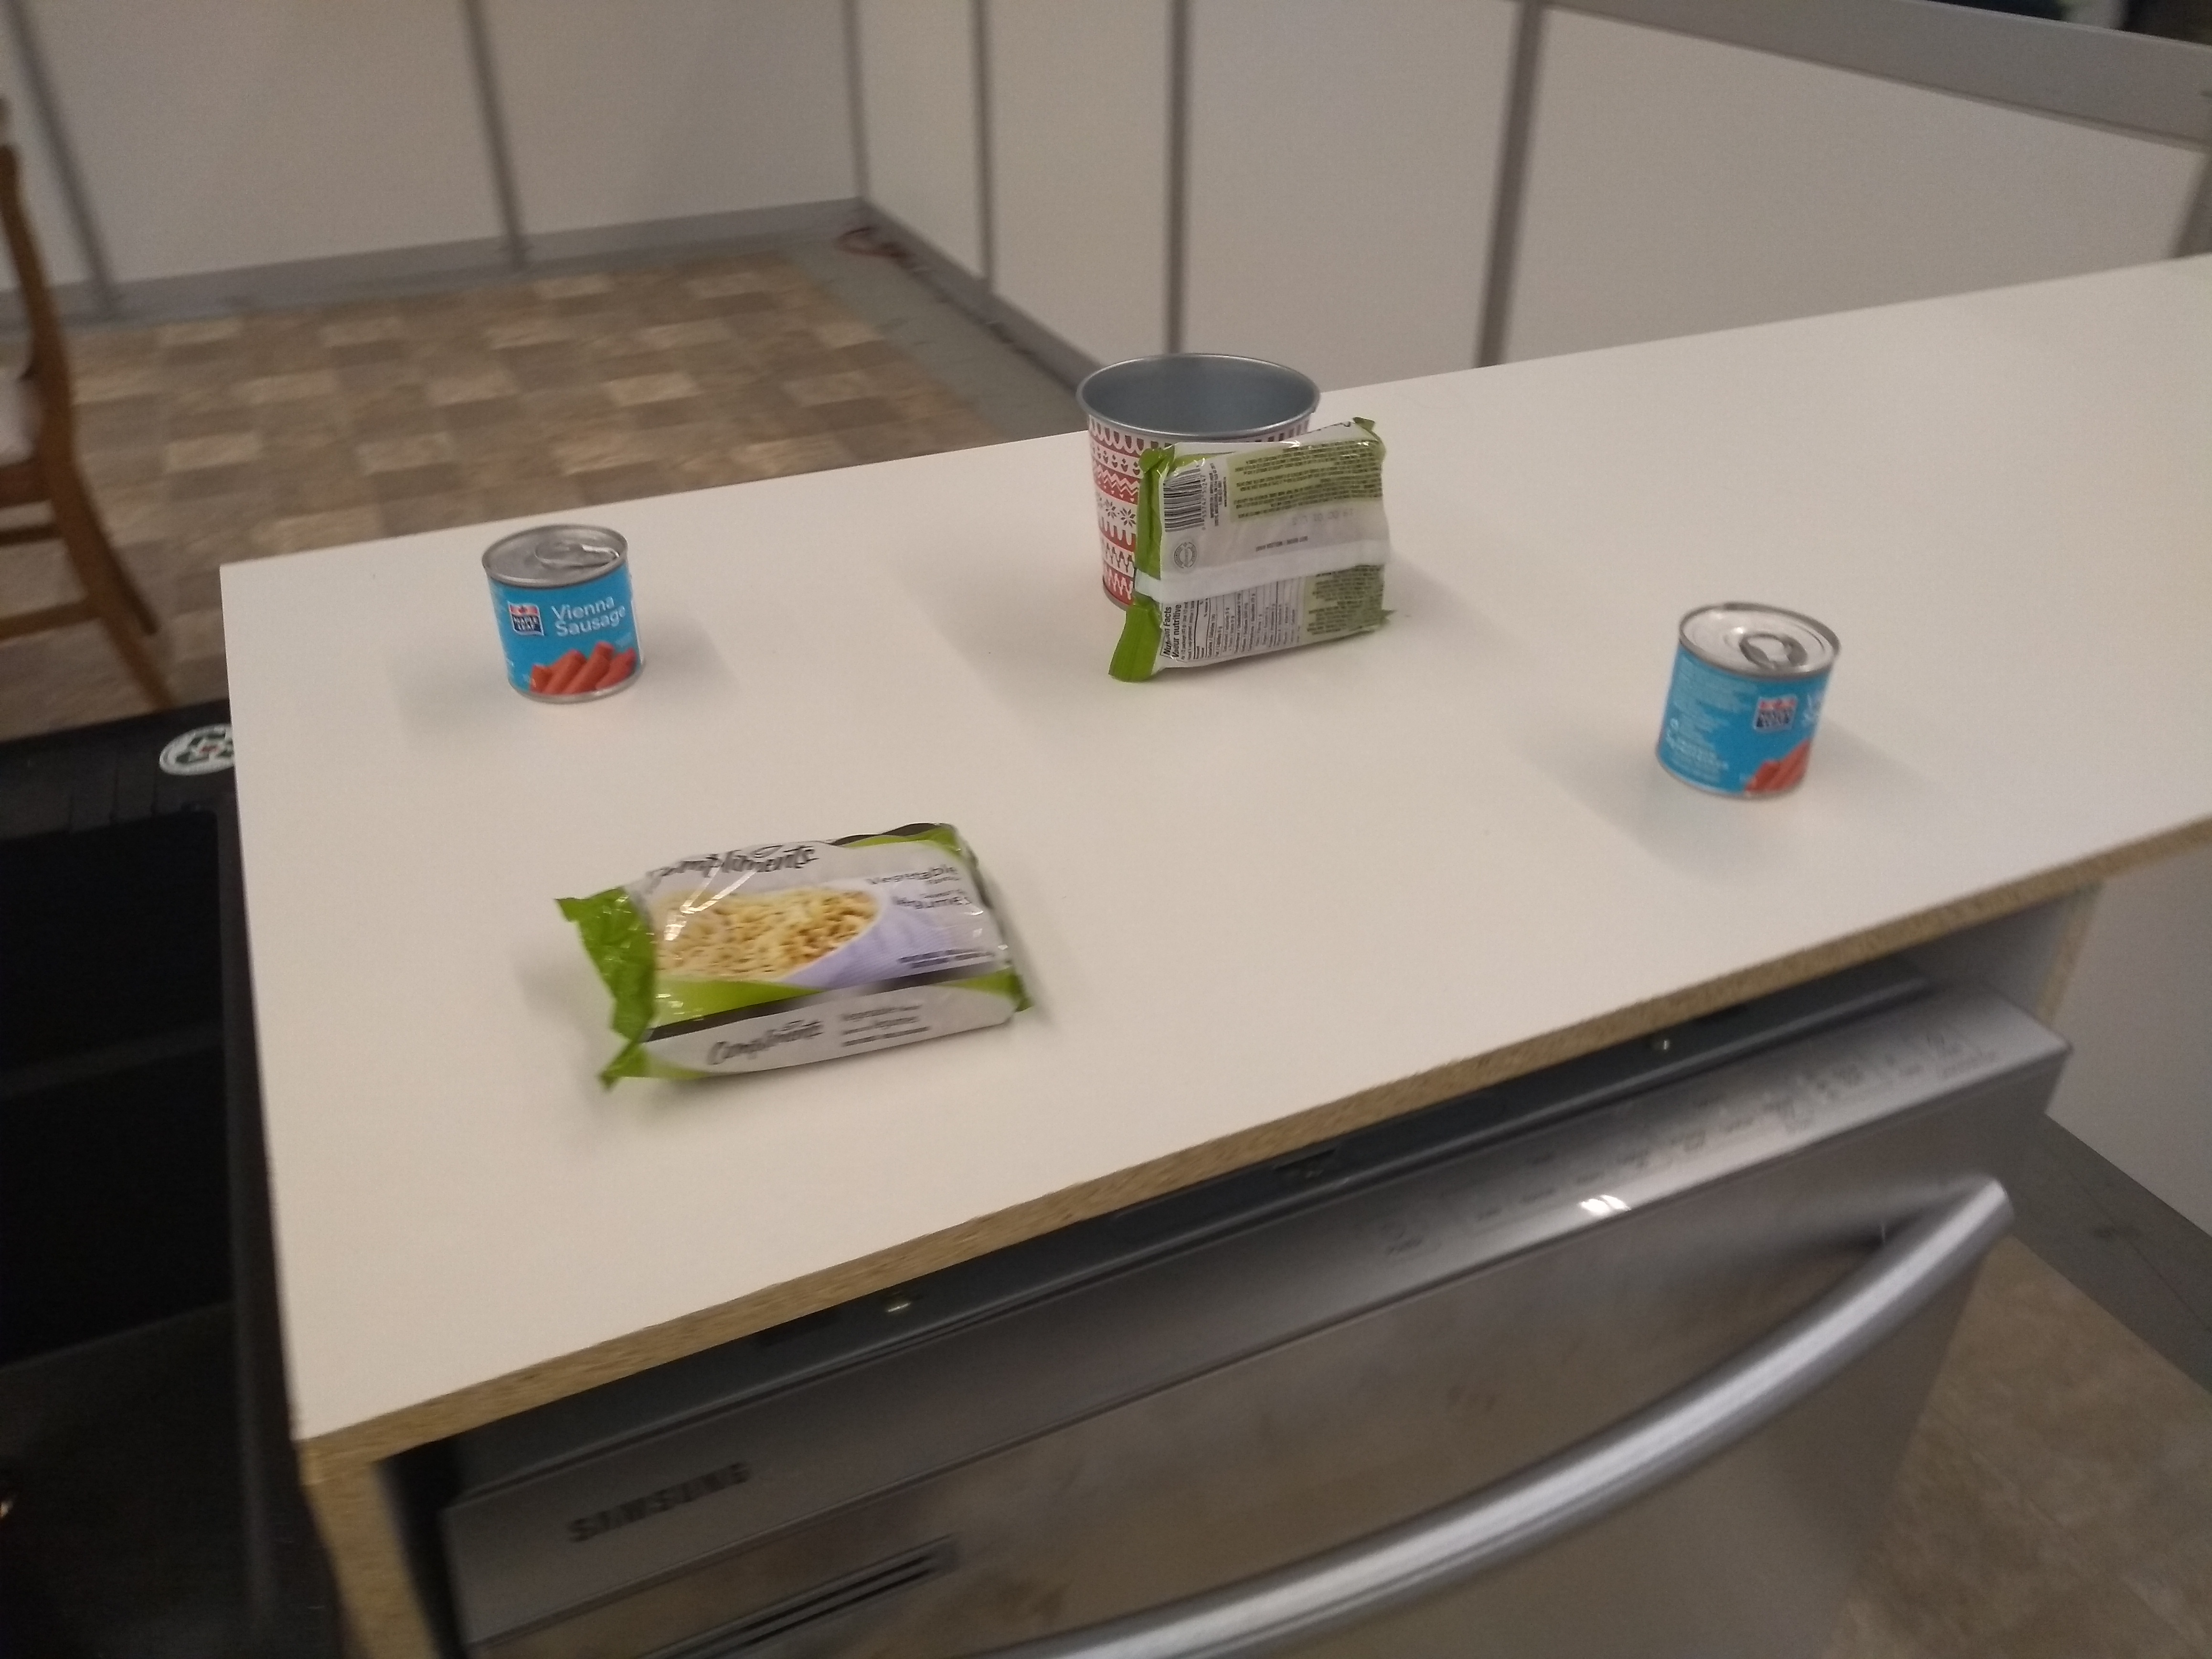noodles: (543, 809, 1043, 1098), (1094, 415, 1411, 704)
sausages: (1642, 579, 1850, 810), (477, 511, 657, 713)
